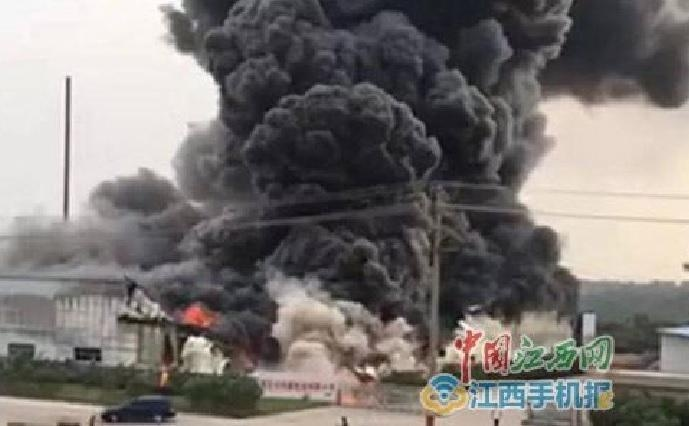fire: (182, 306, 213, 327)
